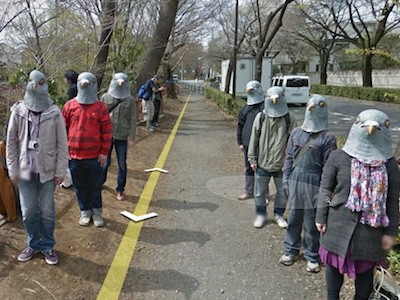people: (14, 69, 63, 267), (340, 111, 391, 299), (287, 91, 329, 264), (67, 71, 110, 231), (255, 85, 290, 231), (232, 78, 267, 201), (107, 73, 133, 206), (140, 94, 155, 121), (146, 72, 159, 102), (161, 80, 168, 126)
